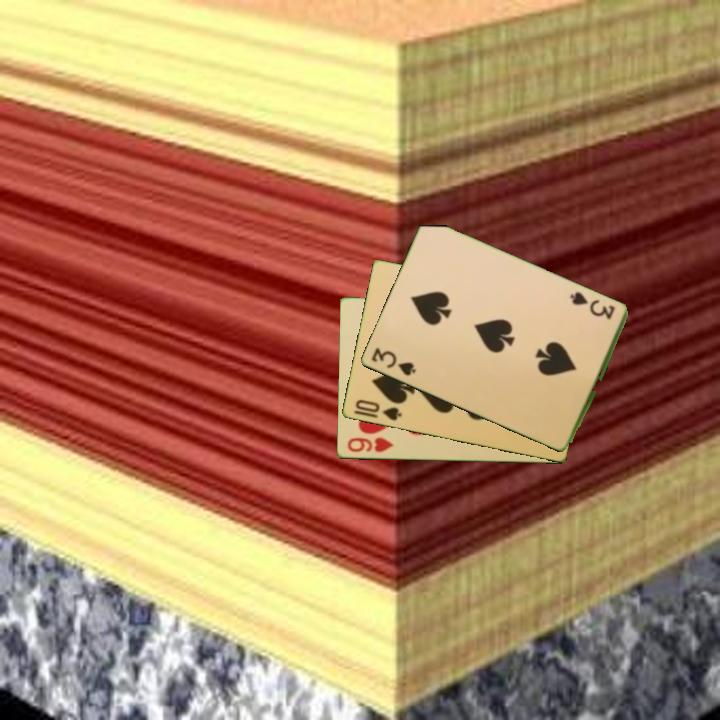10s: (352, 396, 404, 424)
3s: (367, 344, 419, 379), (568, 288, 618, 323)
9h: (344, 434, 396, 455)
